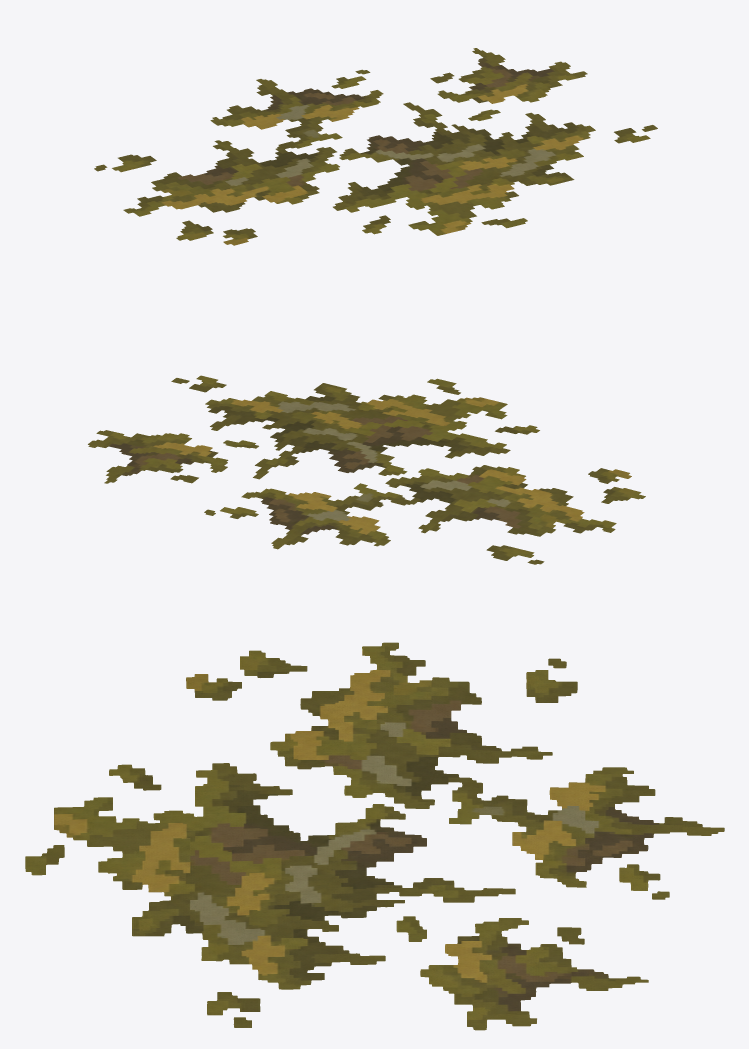
Rendered from SM_D07_MossSparse.fbx.
3 views of the same model, one above another, from view 1: azimuth 30°, elevation 25°; view 2: azimuth 150°, elevation 25°; view 3: azimuth 270°, elevation 25° (orthographic). The views are drawn at different scales.
Visible parts, largest first — view 1: D07_Decal; view 2: D07_Decal; view 3: D07_Decal.
Boxes of the visible parts, x1=… form: D07_Decal: x1=94, y1=48, x2=657, y2=245; D07_Decal: x1=88, y1=375, x2=645, y2=564; D07_Decal: x1=25, y1=642, x2=724, y2=1030.
Bounding box in the file's own units: 0.9 × 0.008 × 0.6908.
